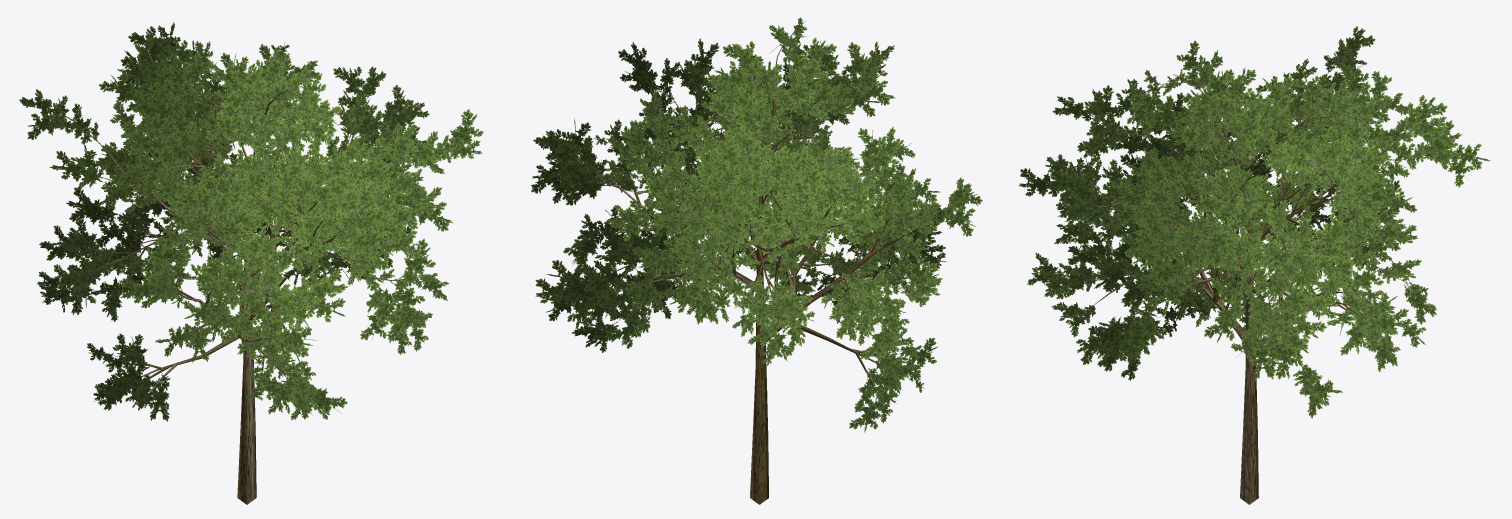
File: oak_medium.glb
The picture shows the model from 3 angles, left to right: view 1: azimuth 30°, elevation 25°; view 2: azimuth 150°, elevation 25°; view 3: azimuth 270°, elevation 25°; orthographic projection. The views are drawn at different scales.
Parts seen in each view (by area): view 1: leaves, trunk; view 2: leaves, trunk; view 3: leaves, trunk.
Part boxes in pixels (box(x1,y1,x2,y2)): leaves: box(19, 22, 483, 421); trunk: box(61, 75, 417, 504); leaves: box(531, 17, 982, 432); trunk: box(574, 34, 944, 504); leaves: box(1018, 26, 1490, 418); trunk: box(1060, 66, 1436, 504).
Bounding box in the file's own units: 8.31 × 9 × 8.78.
Materials: 2 (2 with a texture image).
